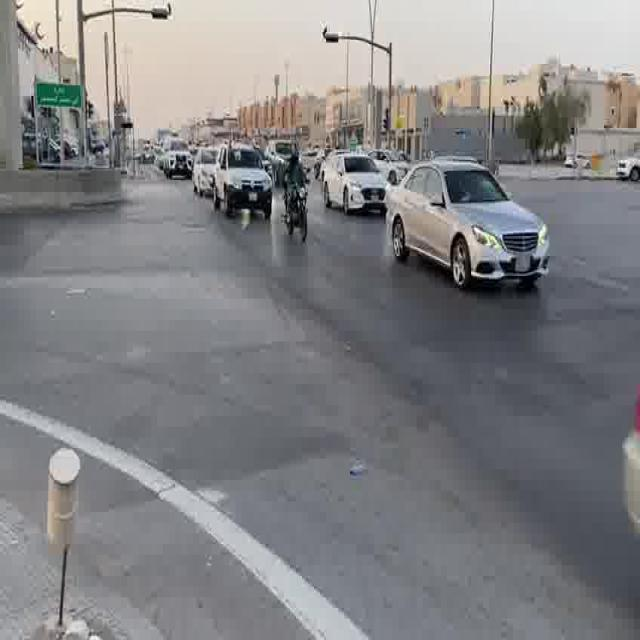bus: (383, 160, 549, 291), (325, 154, 390, 216), (220, 149, 273, 218), (192, 149, 220, 198), (164, 150, 194, 180), (616, 153, 640, 183)
car: (179, 209, 640, 640)
lanes: (226, 209, 639, 634)
lanes2: (260, 205, 640, 474)
lanes3: (286, 201, 640, 404)
lanes4: (327, 192, 640, 313)
